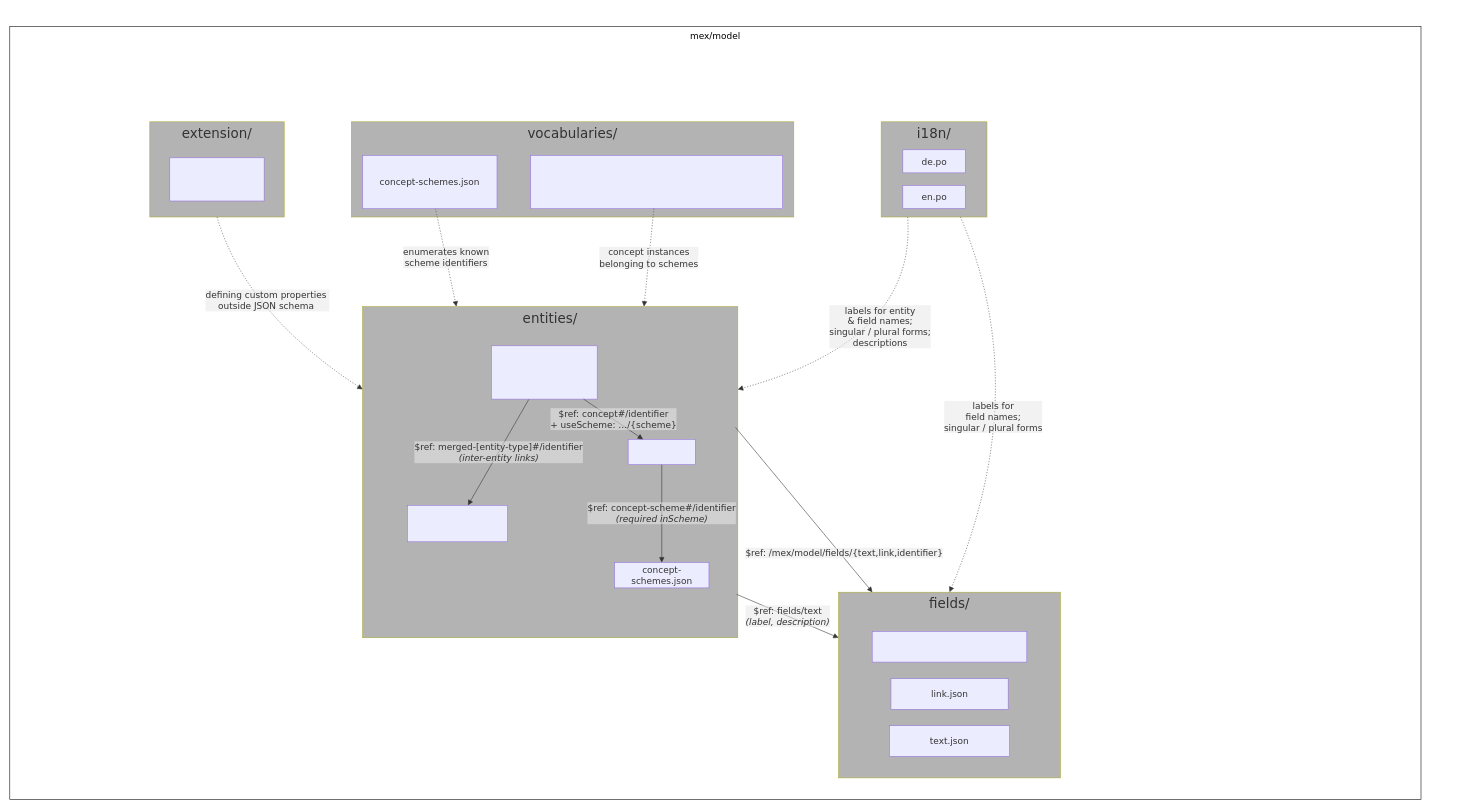
Image size: 1470x809. Some labels were removed from this diagram. Here are the shapes that lost their labels. From the top down, the centre of each, then its label:
At (x=216, y=179): "definition.json".
At (x=656, y=182): "activity-type.json… (20 more files)".
At (x=544, y=372): "extracted-[entity-type].json".
At (x=661, y=452): "concept.json".
At (x=457, y=523): "merged-[entity-type].json".
At (x=949, y=646): "identifier.json".
